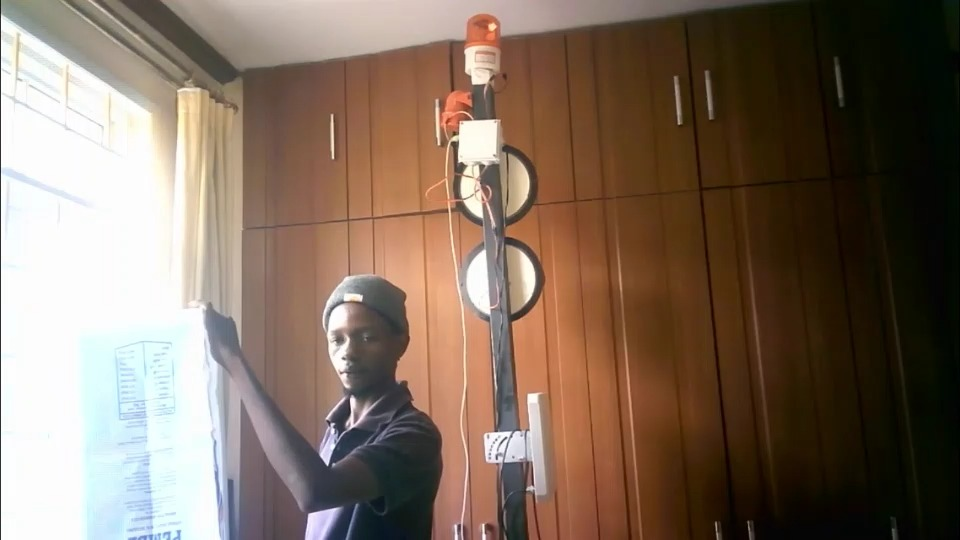wheat_flour_blue_label: (86, 312, 239, 540)
